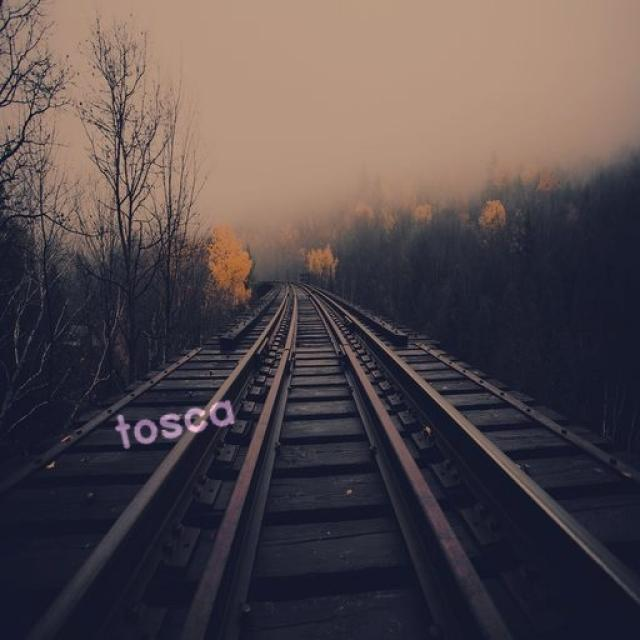watermark: (108, 387, 239, 456)
